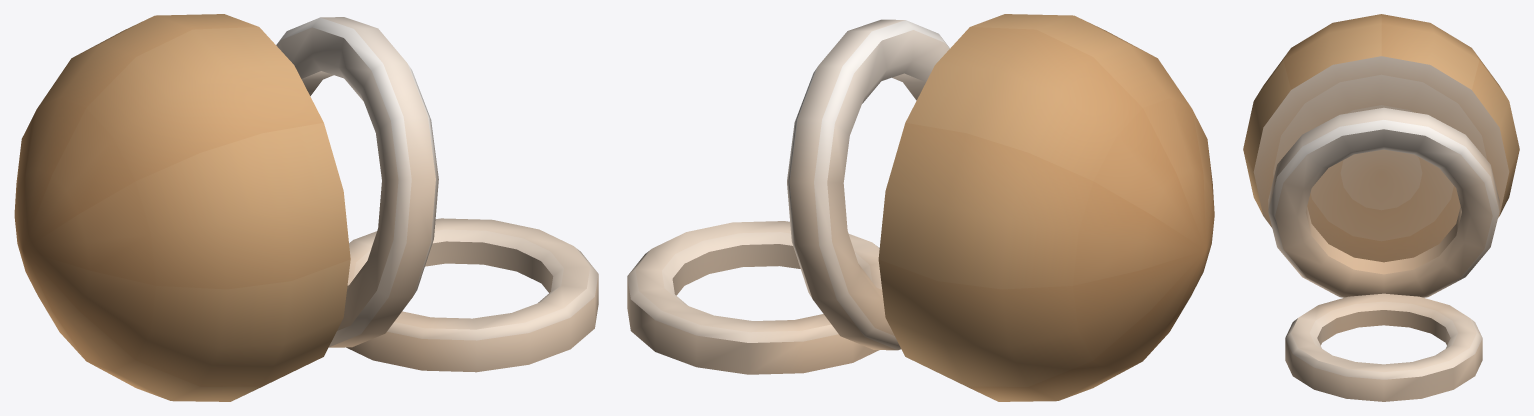
Rendered from food_ingredient_onion_chopped.obj.
3 views of the same model, side by side, from view 1: azimuth 30°, elevation 25°; view 2: azimuth 150°, elevation 25°; view 3: azimuth 270°, elevation 25° (orthographic). The views are drawn at different scales.
Visible parts, largest first — view 1: food_ingredient_onion_chopped_Sphere.207; view 2: food_ingredient_onion_chopped_Sphere.207; view 3: food_ingredient_onion_chopped_Sphere.207.
Part boxes in pixels (<box>): food_ingredient_onion_chopped_Sphere.207: <box>14,14,598,401</box>; food_ingredient_onion_chopped_Sphere.207: <box>627,14,1214,401</box>; food_ingredient_onion_chopped_Sphere.207: <box>1243,14,1519,401</box>.
Bounding box in the file's own units: 1.23 × 0.75 × 0.75.
Materials: 1 (1 with a texture image).
